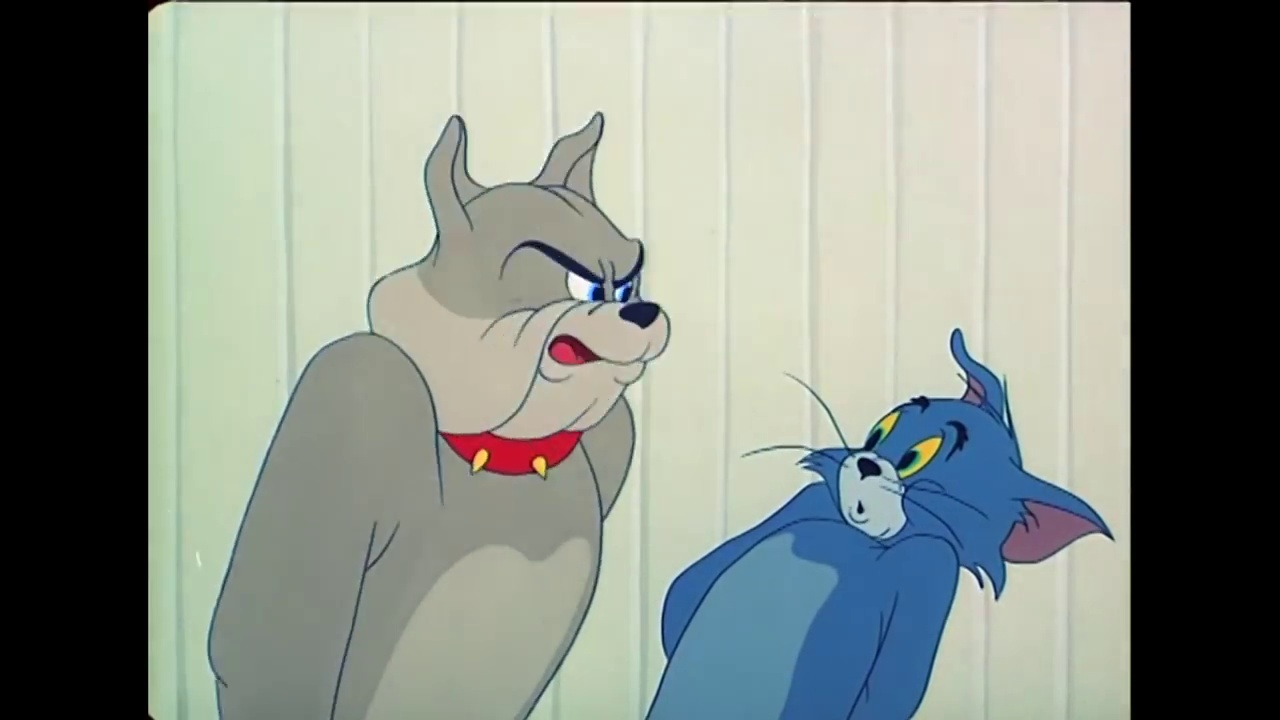spike: (365, 106, 678, 487)
tom: (794, 323, 1118, 596)
